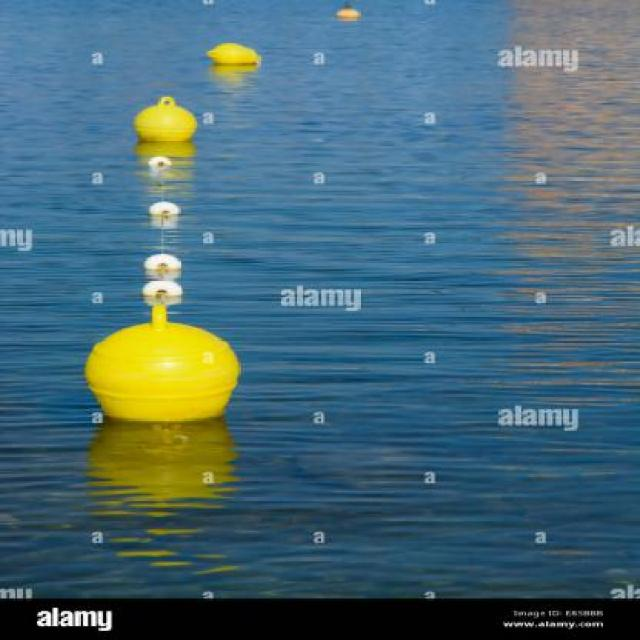a: (99, 29, 302, 156), (73, 299, 261, 431), (90, 86, 247, 237), (107, 193, 227, 322), (119, 89, 238, 150), (199, 39, 291, 79), (129, 250, 209, 276), (133, 197, 197, 228), (129, 284, 203, 307), (326, 1, 382, 30), (132, 152, 193, 178)
